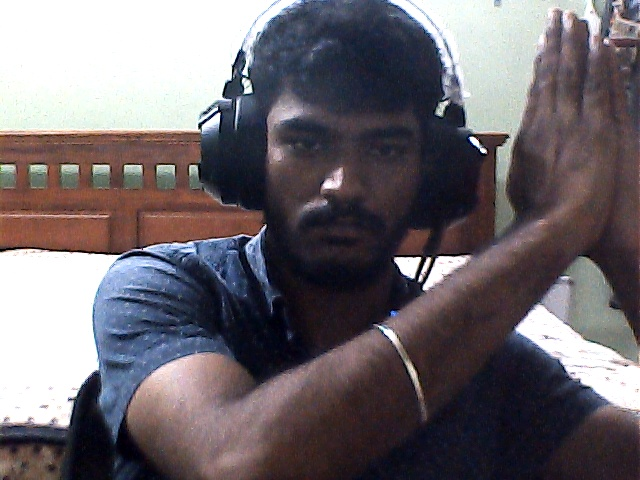Sign: (501, 2, 640, 245)
